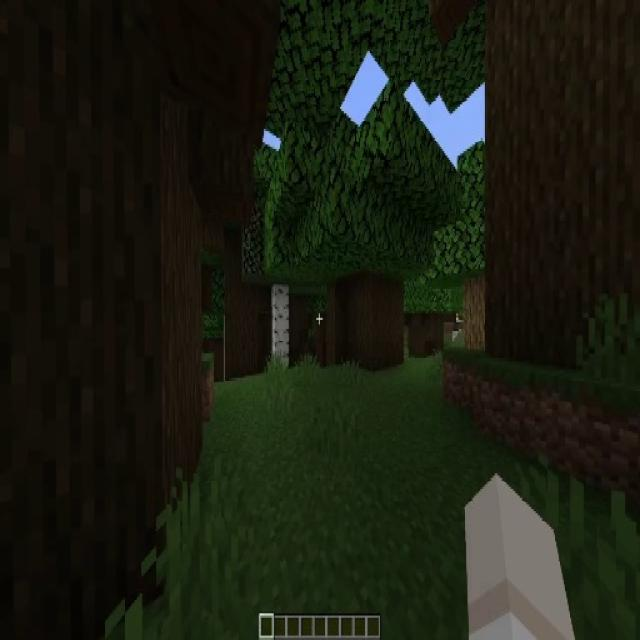birch: (238, 181, 324, 371)
birch_log: (274, 288, 288, 369)
dark_oak: (276, 99, 442, 369), (398, 239, 449, 356)
dark_oak_log: (0, 35, 221, 640), (485, 19, 640, 366), (332, 276, 402, 375), (226, 267, 262, 371), (412, 313, 440, 359)
oak: (428, 143, 519, 348)
oak_log: (464, 277, 484, 349)
